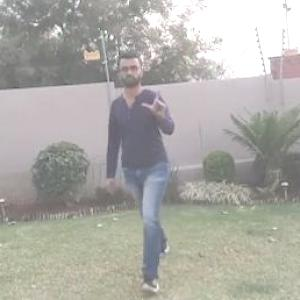land_hand: (140, 82, 172, 120)
